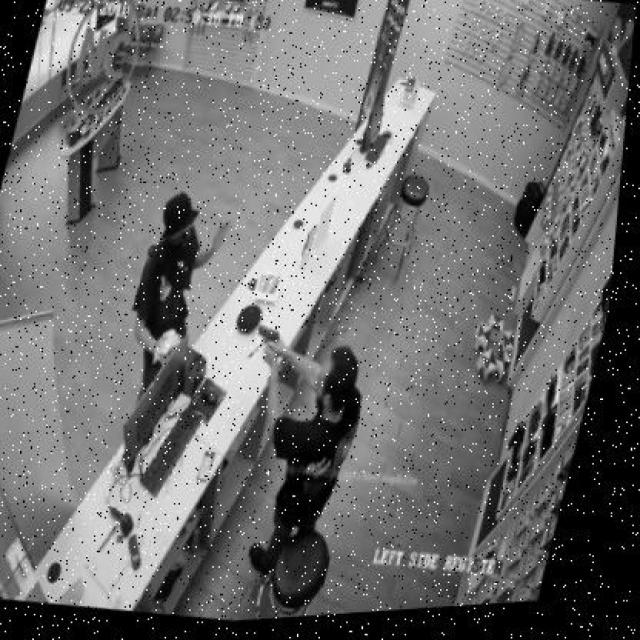weapon: (257, 326, 281, 349)
